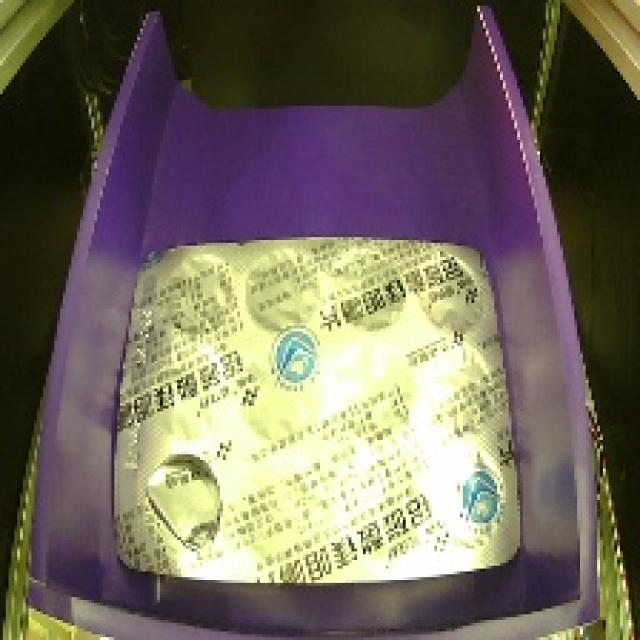med_plate: (86, 221, 539, 600)
